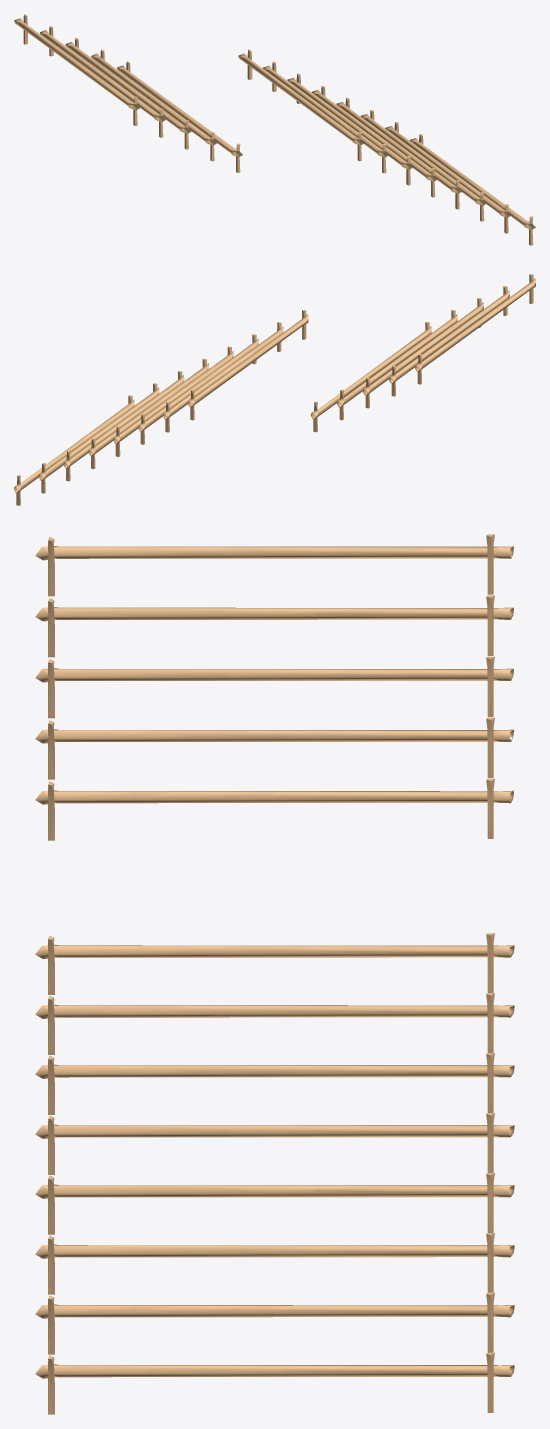
Rendered from Penyangga Tanah.fbx.
The picture shows the model from 3 angles, top to bottom: view 1: azimuth 30°, elevation 25°; view 2: azimuth 150°, elevation 25°; view 3: azimuth 270°, elevation 25°; orthographic projection. The views are drawn at different scales.
Parts seen in each view (by area): view 1: Penyangga_Tanah 1, Penyangga_Tanah; view 2: Penyangga_Tanah 1, Penyangga_Tanah; view 3: Penyangga_Tanah 1, Penyangga_Tanah.
Boxes of the visible parts, box(x1,y1,x2,y2) form: Penyangga_Tanah 1: box(238, 49, 535, 245); Penyangga_Tanah: box(14, 14, 242, 172); Penyangga_Tanah 1: box(14, 310, 308, 505); Penyangga_Tanah: box(310, 274, 535, 432); Penyangga_Tanah 1: box(35, 933, 514, 1414); Penyangga_Tanah: box(35, 534, 513, 840).
Size of the model in its own units: 898 by 524 by 462.
1 material, 1 textured.
